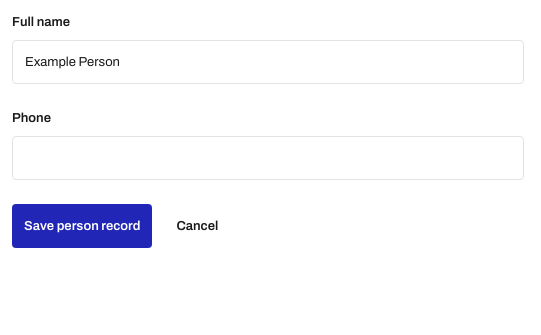
it: PersonRecordForm › keeps user input after rejected writes
Click the button "Save person record" at (82, 226), box [12,204,152,248]
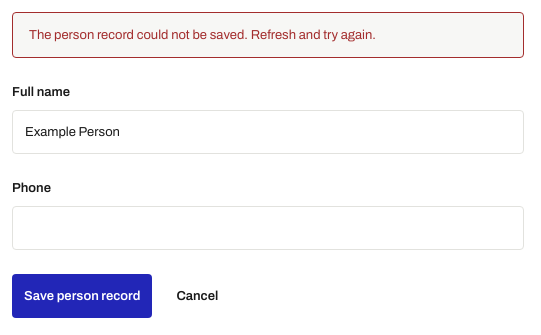
Check: the field labelled "Full name" holds "Example Person", box [12,110,524,154]
Check: the message shows "could not be saved", box [29,28,376,42]
